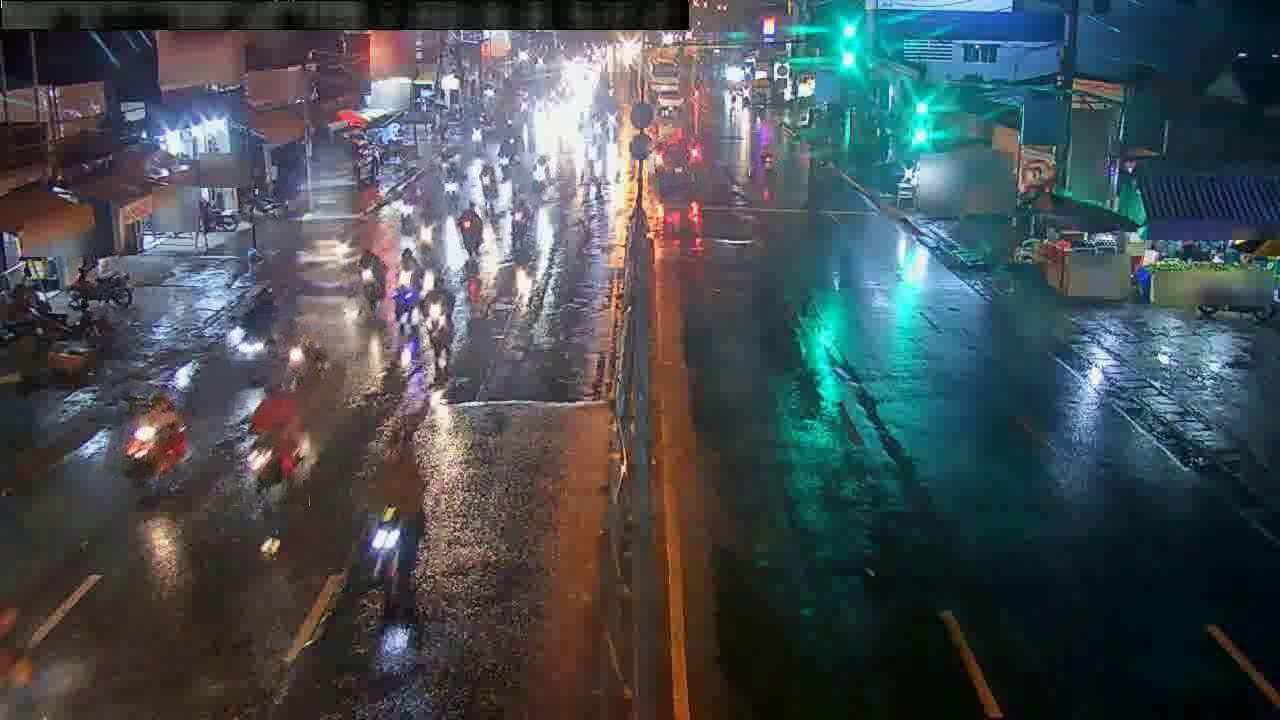Car: (652, 138, 702, 201)
Motorcyclist: (349, 456, 424, 603), (245, 392, 311, 492), (121, 391, 187, 484), (274, 325, 330, 390), (68, 258, 132, 310), (228, 296, 276, 359), (421, 286, 455, 359), (352, 250, 386, 315), (391, 267, 423, 326), (456, 203, 485, 258), (509, 197, 536, 251), (245, 186, 285, 221), (429, 161, 460, 201), (748, 135, 775, 178), (390, 196, 417, 236), (530, 154, 554, 197), (476, 163, 498, 201), (418, 213, 438, 251)
